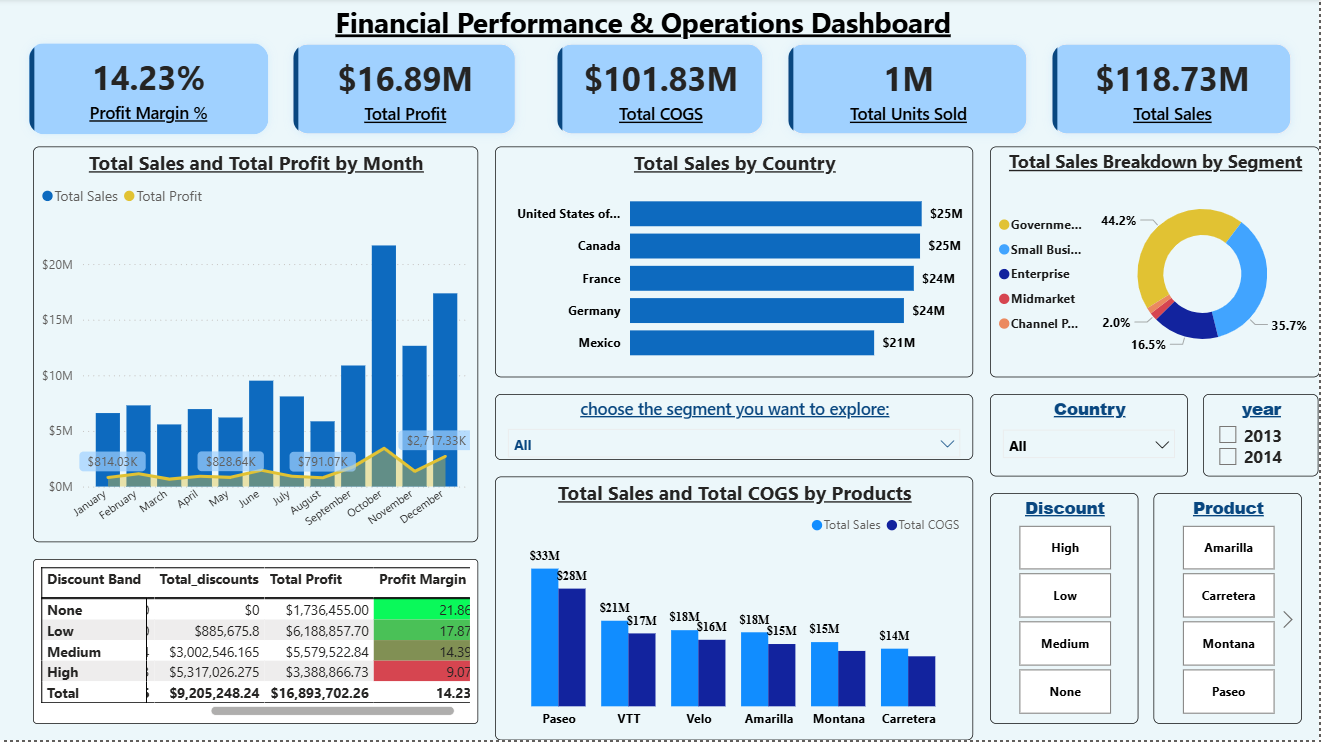

This screenshot's page, from the dashboard's own definition file:
{"tool":"powerbi","page":{"name":"Financial dashboard","canvas":[1280,720],"ordinal":0},"visuals":[{"type":"cardVisual","fields":{"Data":["_Measures.Profit Margin %"]},"box":[0,16,288,144],"z":0},{"type":"cardVisual","fields":{"Data":["_Measures.Total COGS"]},"box":[512,16,256,144],"z":1000},{"type":"cardVisual","fields":{"Data":["_Measures.Total Profit"]},"box":[256,16,272,144],"z":2000},{"type":"cardVisual","fields":{"Data":["_Measures.Total Sales"]},"box":[992,16,288,144],"z":3000},{"type":"cardVisual","fields":{"Data":["_Measures.Total Units Sold"]},"box":[736,16,288,144],"z":4000},{"type":"textbox","box":[0,0,1248,48],"z":5000},{"type":"lineStackedColumnComboChart","fields":{"Y":["_Measures.Total Sales"],"Category":["financials.Date.Variation.Date Hierarchy.Month"],"Y2":["_Measures.Total Profit"]},"box":[32,144,432,384],"z":6000},{"type":"clusteredBarChart","title":"Total Sales by Country","fields":{"Category":["financials.Country"],"Y":["_Measures.Total Sales"]},"box":[480,144,464,224],"z":7000},{"type":"clusteredColumnChart","title":"Total Sales and Total COGS by Products","fields":{"Category":["financials.Product"],"Y":["_Measures.Total Sales","_Measures.Total COGS"]},"box":[480,464,464,256],"z":8000},{"type":"donutChart","title":"Total Sales Breakdown by Segment","fields":{"Category":["financials.Segment"],"Y":["_Measures.Total Sales"]},"box":[960,144,320,224],"z":9000},{"type":"pivotTable","title":"Segment Performance & Profitability and discounts Summary","fields":{"Values":["_Measures.Total Units Sold","_Measures.Total Sales","_Measures.Total_discounts","_Measures.Total Profit","_Measures.Profit Margin %"],"Rows":["financials.Discount Band"]},"box":[32,544,432,160],"z":10000},{"type":"slicer","title":"choose the segment you want to explore:","fields":{"Values":["financials.Segment"]},"box":[480,384,464,64],"z":11000},{"type":"slicer","title":"year","fields":{"Values":["financials.Year"]},"box":[1168,384,112,80],"z":12000},{"type":"slicer","title":"Country","fields":{"Values":["financials.Country"]},"box":[960,384,192,80],"z":13000},{"type":"slicer","title":"Product","fields":{"Values":["financials.Product"]},"box":[1120,480,144,224],"z":14000},{"type":"slicer","title":"Discount","fields":{"Values":["financials.Discount Band"]},"box":[960,480,144,224],"z":15000}]}

Visuals, with their boxes in screenshot pixels (x1, y1, x2, y2), scaled from the page's 1280x720 canvas onto the 1321x742 screenshot:
cardVisual - _Measures.Profit Margin %: region(0, 16, 297, 165)
cardVisual - _Measures.Total COGS: region(528, 16, 793, 165)
cardVisual - _Measures.Total Profit: region(264, 16, 545, 165)
cardVisual - _Measures.Total Sales: region(1024, 16, 1320, 165)
cardVisual - _Measures.Total Units Sold: region(760, 16, 1057, 165)
textbox: region(0, 0, 1288, 49)
lineStackedColumnComboChart - _Measures.Total Sales x financials.Date.Variation.Date Hierarchy.Month: region(33, 148, 479, 544)
"Total Sales by Country" clusteredBarChart: region(495, 148, 974, 379)
"Total Sales and Total COGS by Products" clusteredColumnChart: region(495, 478, 974, 741)
"Total Sales Breakdown by Segment" donutChart: region(991, 148, 1320, 379)
"Segment Performance & Profitability and discounts Summary" pivotTable: region(33, 561, 479, 726)
"choose the segment you want to explore:" slicer: region(495, 396, 974, 462)
"year" slicer: region(1205, 396, 1320, 478)
"Country" slicer: region(991, 396, 1189, 478)
"Product" slicer: region(1156, 495, 1304, 726)
"Discount" slicer: region(991, 495, 1139, 726)
